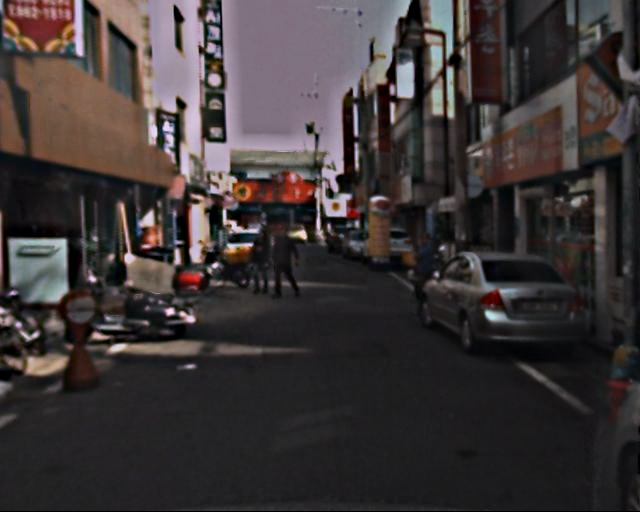person: (273, 217, 305, 301), (412, 228, 442, 316), (251, 223, 278, 295)
